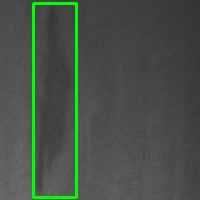inclusion: (33, 3, 76, 197)
